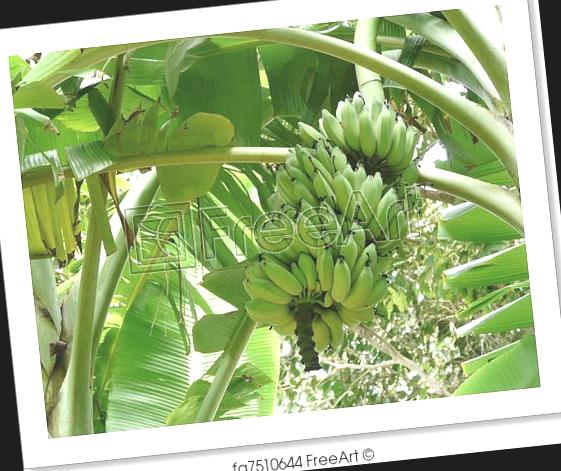Banana Unripe: (180, 70, 452, 395)
